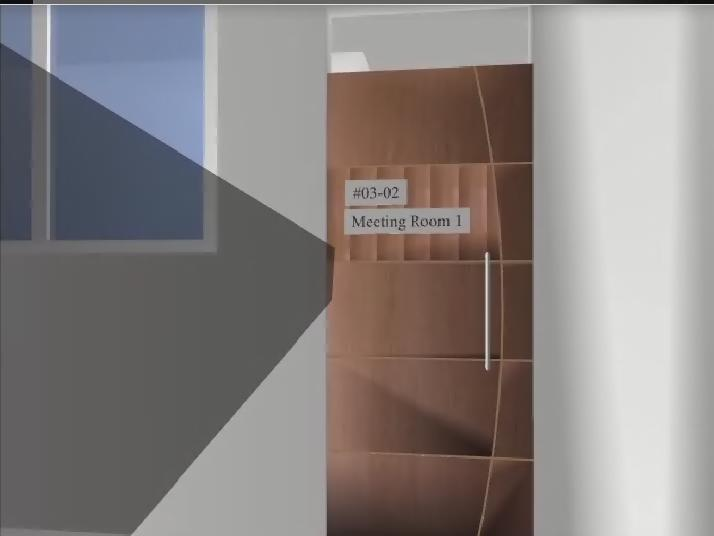door: (327, 63, 533, 536)
